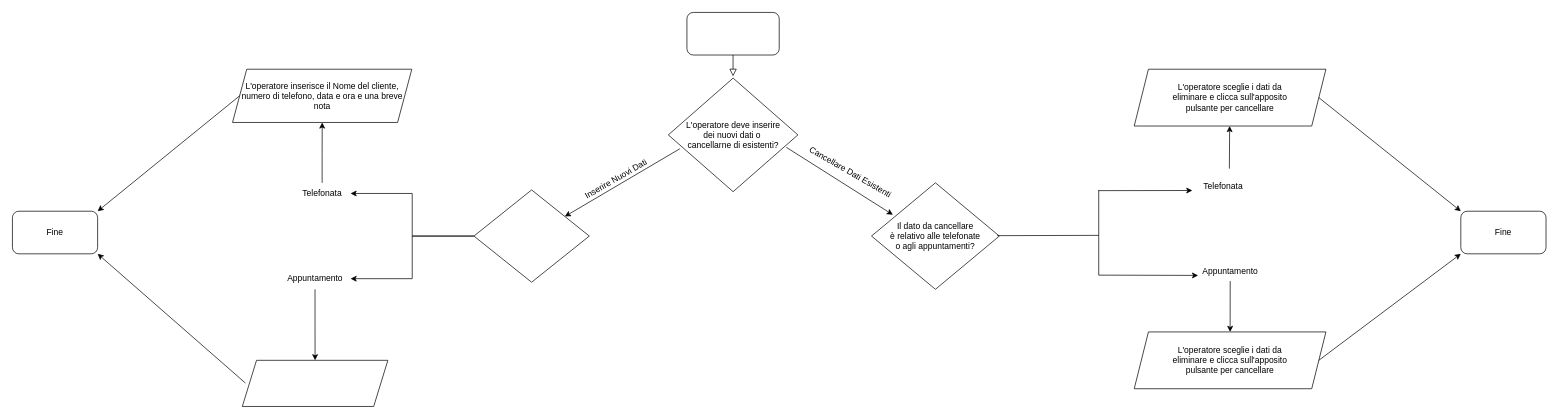
This 1558x419 diagram has some shape labels left out. Each missing label, with the centre of its shape:
Il dato da inserire è una telefonata o un appuntamento?: point 531,235
L'operatore fa partire l'applicativo: point 732,33
L'operatore inserisce data e ora dell'appuntamento e relativa motivazione: point 315,383
